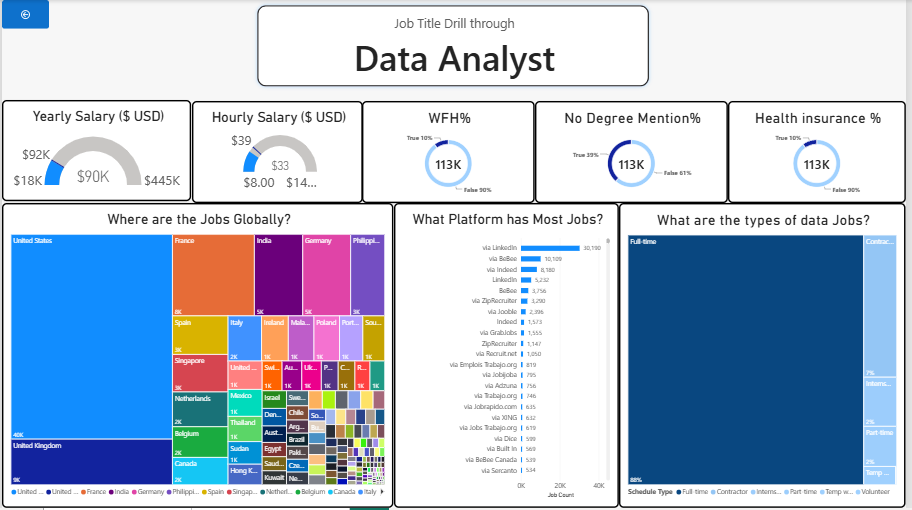

What the dashboard file says about the page in this screenshot:
{"tool":"powerbi","page":{"name":"Job title Drill through","canvas":[1920,1080],"ordinal":1},"visuals":[{"type":"cardVisual","fields":{"Data":["Min(job_postings_flat.job_title_short)"]},"box":[532,0,856,195.2],"z":0},{"type":"actionButton","box":[0,0,100,61],"z":1000},{"type":"gauge","title":"Yearly Salary ($ USD)","fields":{"MaxValue":["Max(job_postings_flat.salary_year_avg)1"],"MinValue":["Min(job_postings_flat.salary_year_avg)"],"TargetValue":["Avg(job_postings_flat.salary_year_avg)"],"Y":["Median(job_postings_flat.salary_year_avg)"]},"box":[0,212.8,402.5,215.3],"z":2000},{"type":"gauge","title":"Hourly Salary ($ USD)","fields":{"MaxValue":["Max(job_postings_flat.salary_hour_avg)1"],"MinValue":["Min(job_postings_flat.salary_hour_avg)"],"TargetValue":["Avg(job_postings_flat.salary_hour_avg)2"],"Y":["Median(job_postings_flat.salary_hour_avg)"]},"box":[403.3,214.5,362.5,216.7],"z":3000},{"type":"donutChart","title":"WFH%","fields":{"Category":["job_postings_flat.job_work_from_home"],"Y":["CountNonNull(job_postings_flat.job_work_from_home)"]},"box":[765.9,214.5,366.8,216.7],"z":4000},{"type":"donutChart","title":"No Degree Mention%","fields":{"Category":["job_postings_flat.job_no_degree_mention"],"Y":["CountNonNull(job_postings_flat.job_no_degree_mention)"]},"box":[1132.7,214.5,409.7,216.7],"z":5000},{"type":"donutChart","title":"Health insurance %","fields":{"Category":["job_postings_flat.job_work_from_home"],"Y":["CountNonNull(job_postings_flat.job_health_insurance)"]},"box":[1542.4,214.5,377.6,216.7],"z":6000},{"type":"treemap","title":"Where are the Jobs Globally?","fields":{"Group":["job_postings_flat.job_country"],"Values":["CountNonNull(job_postings_flat.job_title_short)"]},"box":[0,431.2,832.4,647.9],"z":7000},{"type":"treemap","title":"What are the types of data Jobs?","fields":{"Group":["job_postings_flat.job_schedule_type"],"Values":["CountNonNull(job_postings_flat.job_schedule_type)"]},"box":[1310.7,431.2,609.3,647.9],"z":8000},{"type":"barChart","title":"What Platform has Most Jobs?","fields":{"Category":["job_postings_flat.job_via"],"Y":["CountNonNull(job_postings_flat.job_via)"]},"box":[832.4,431.2,478.4,647.9],"z":9000}]}

Visuals, with their boxes in screenshot pixels (x1, y1, x2, y2), scaled from the page's 1920x1080 canvas onto the 912x510 screenshot:
cardVisual - Min(job_postings_flat.job_title_short): [x1=253, y1=0, x2=659, y2=92]
actionButton: [x1=0, y1=0, x2=48, y2=29]
"Yearly Salary ($ USD)" gauge: [x1=0, y1=100, x2=191, y2=202]
"Hourly Salary ($ USD)" gauge: [x1=192, y1=101, x2=364, y2=204]
"WFH%" donutChart: [x1=364, y1=101, x2=538, y2=204]
"No Degree Mention%" donutChart: [x1=538, y1=101, x2=733, y2=204]
"Health insurance %" donutChart: [x1=733, y1=101, x2=911, y2=204]
"Where are the Jobs Globally?" treemap: [x1=0, y1=204, x2=395, y2=509]
"What are the types of data Jobs?" treemap: [x1=623, y1=204, x2=911, y2=509]
"What Platform has Most Jobs?" barChart: [x1=395, y1=204, x2=623, y2=509]
